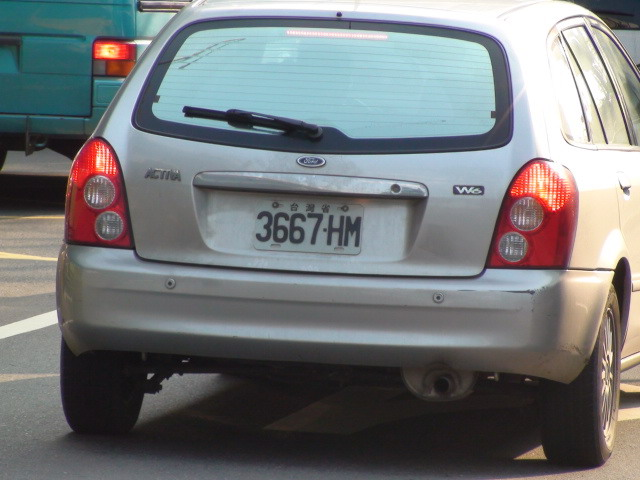plate: (252, 197, 365, 256)
